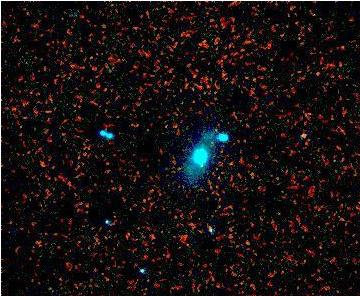star: (186, 149, 216, 179)
